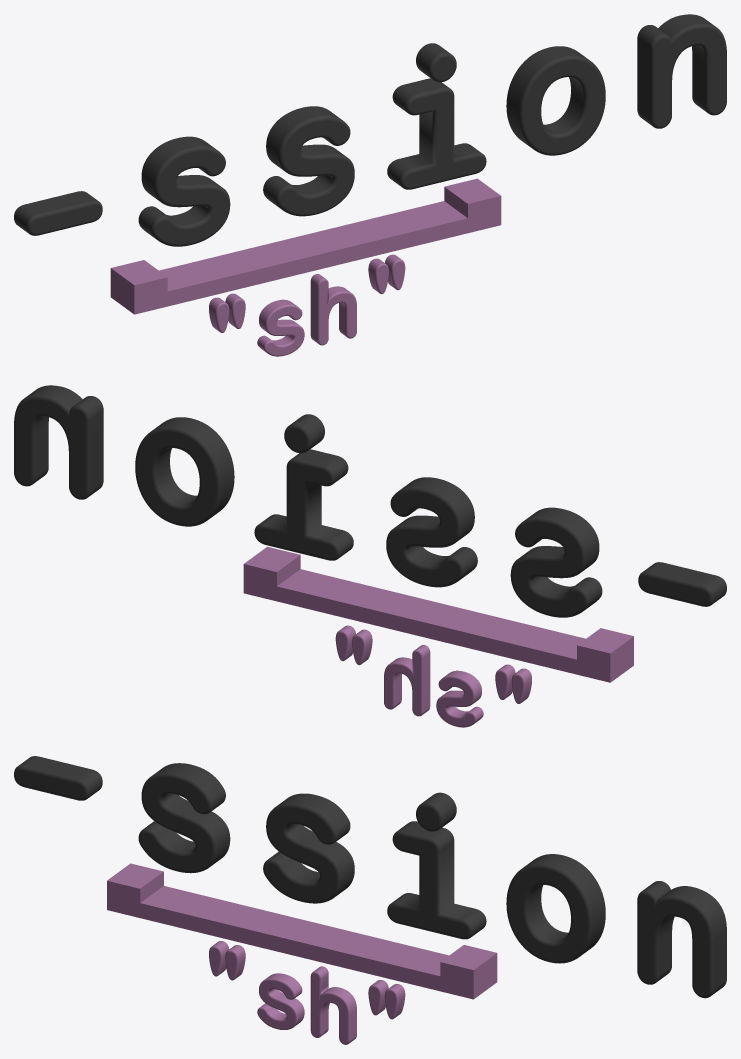
The model's file is -ssion.gltf.
3 views of the same model, one above another, from view 1: azimuth 30°, elevation 25°; view 2: azimuth 150°, elevation 25°; view 3: azimuth 330°, elevation 25° (orthographic).
Visible parts, largest first — view 1: Text, Cube.001, Text.002, Text.001; view 2: Text, Cube.001, Text.002, Text.001; view 3: Text, Cube.001, Text.002, Text.001.
Boxes of the visible parts, x1=… form: Text: x1=14, y1=14, x2=726, y2=246; Cube.001: x1=110, y1=178, x2=501, y2=314; Text.002: x1=506, y1=46, x2=605, y2=155; Text.001: x1=209, y1=254, x2=405, y2=356; Text: x1=14, y1=385, x2=726, y2=617; Cube.001: x1=243, y1=546, x2=633, y2=682; Text.002: x1=135, y1=417, x2=234, y2=526; Text.001: x1=335, y1=625, x2=531, y2=727; Text: x1=14, y1=756, x2=726, y2=998; Cube.001: x1=107, y1=863, x2=497, y2=999; Text.002: x1=506, y1=854, x2=605, y2=963; Text.001: x1=209, y1=941, x2=405, y2=1044.
Bounding box in the file's own units: 3.26 × 1.19 × 0.1906.
